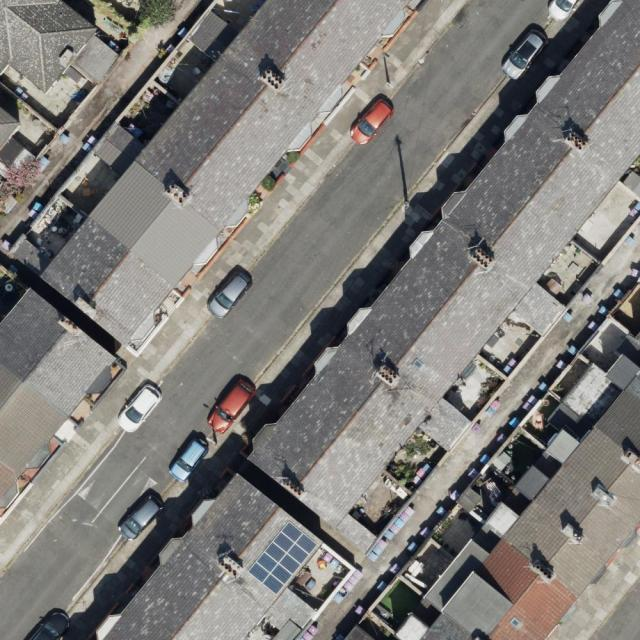roof: (249, 0, 640, 551), (1, 0, 412, 348), (396, 354, 640, 640), (100, 474, 324, 640), (0, 286, 117, 509), (1, 0, 118, 90), (0, 106, 19, 150)
skylight: (511, 616, 526, 632), (411, 355, 424, 369)
solar: (248, 521, 317, 595)
